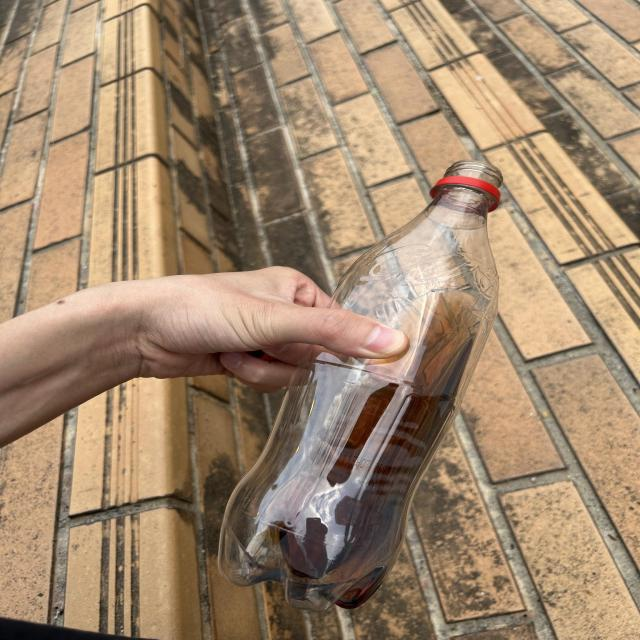low: (218, 161, 502, 611)
